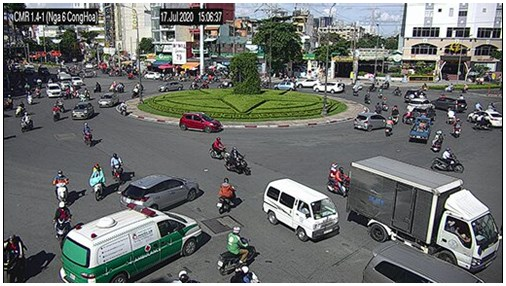xe_cuu_thuong: (60, 206, 198, 284)
xe_hoi: (361, 242, 485, 283), (263, 179, 339, 242), (120, 174, 201, 209), (179, 112, 221, 133), (352, 113, 384, 134), (432, 97, 466, 112), (71, 102, 94, 120), (313, 81, 344, 94), (407, 97, 433, 111), (412, 107, 436, 121), (98, 93, 115, 109), (44, 83, 61, 98), (296, 79, 322, 88), (273, 82, 295, 92), (71, 75, 82, 86)
xe_may: (217, 226, 256, 277), (4, 234, 28, 283), (431, 147, 463, 174), (225, 147, 251, 175), (217, 178, 236, 215), (328, 162, 347, 199), (88, 163, 106, 202), (56, 201, 70, 251), (51, 170, 69, 201), (208, 136, 230, 161), (110, 153, 123, 186), (20, 112, 34, 134), (478, 113, 493, 133), (432, 129, 443, 153), (83, 122, 93, 148), (453, 118, 463, 139), (15, 101, 27, 117), (51, 102, 61, 121), (391, 104, 400, 125), (131, 81, 143, 96), (4, 93, 13, 112), (55, 96, 65, 112), (188, 77, 199, 91), (26, 87, 34, 106), (385, 116, 392, 137), (114, 82, 125, 95), (446, 108, 454, 124), (119, 101, 127, 115), (83, 86, 90, 102), (364, 90, 372, 104), (93, 80, 102, 92), (107, 79, 116, 91), (377, 84, 384, 99), (392, 86, 402, 96), (35, 85, 41, 100), (199, 80, 210, 88), (374, 102, 381, 113)
xe_tai: (351, 157, 499, 272)
